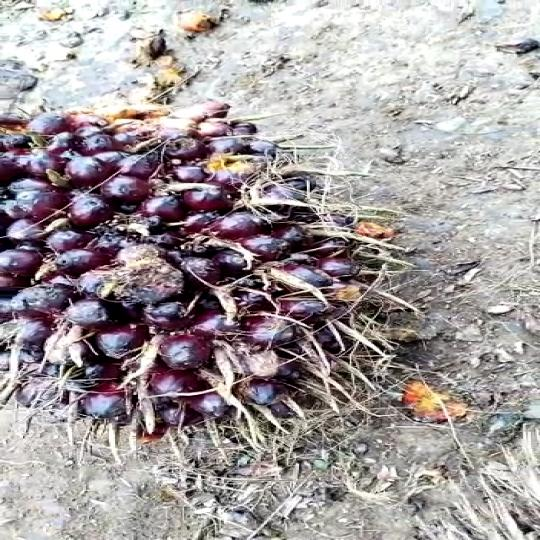mentah: (1, 98, 418, 447)
